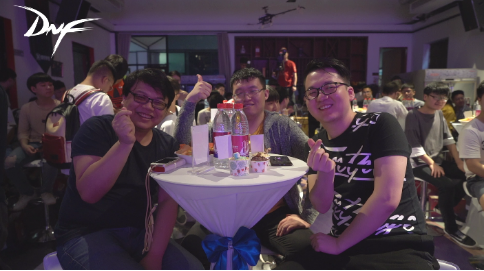handsup: (60, 66, 205, 267), (299, 55, 435, 261), (174, 66, 315, 252)
